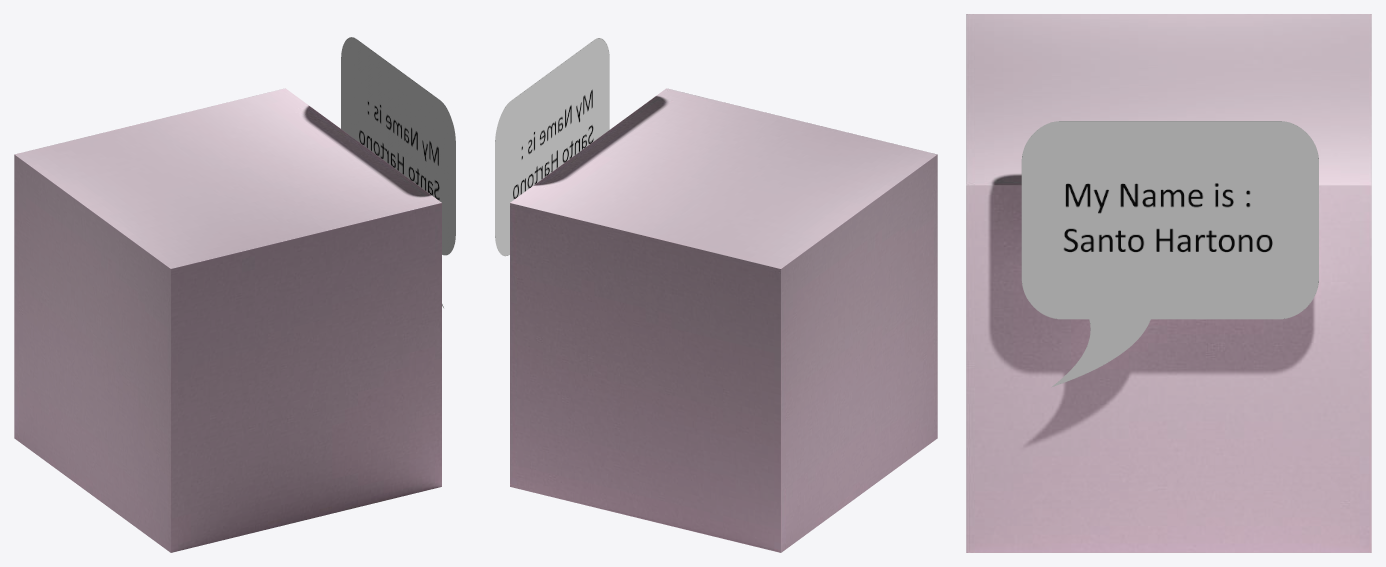
Rendered from balonKata.glb.
3 views of the same model, side by side, from view 1: azimuth 30°, elevation 25°; view 2: azimuth 150°, elevation 25°; view 3: azimuth 270°, elevation 25° (orthographic). The views are drawn at different scales.
Visible parts, largest first — view 1: Cube, Plane.001; view 2: Cube, Plane.001; view 3: Cube, Plane.001.
Boxes of the visible parts, bbox=[...] form: Cube: bbox=[14, 88, 441, 552]; Plane.001: bbox=[341, 37, 455, 307]; Cube: bbox=[510, 88, 937, 552]; Plane.001: bbox=[495, 38, 609, 256]; Cube: bbox=[966, 14, 1371, 552]; Plane.001: bbox=[1021, 121, 1318, 387].
Size of what is drawn, in the model's own units: 2.26 by 2.54 by 2.
2 materials, 2 textured.
